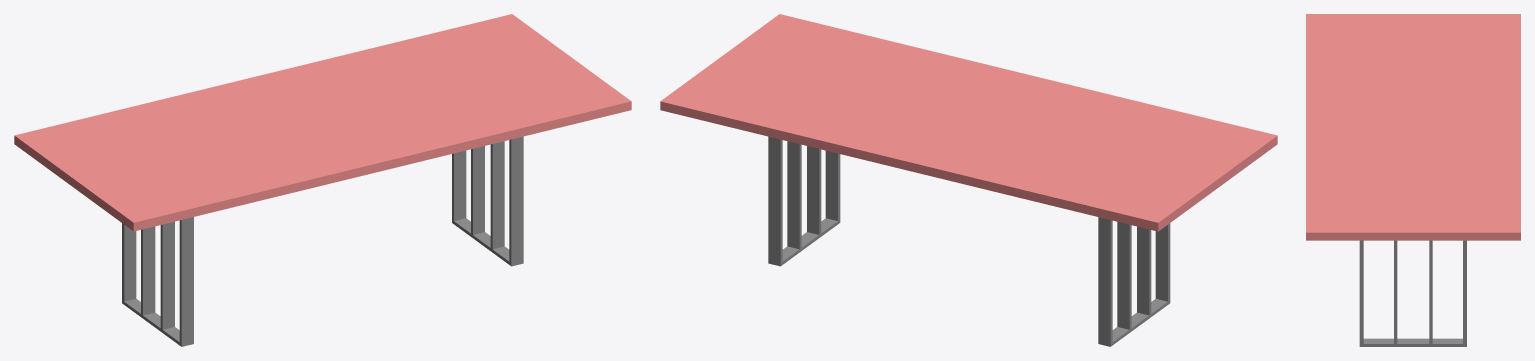
Rendered from tavolo_pranzo_001.fbx.
3 renders of one model, left to right at view 1: azimuth 30°, elevation 25°; view 2: azimuth 150°, elevation 25°; view 3: azimuth 270°, elevation 25°, orthographic. The views are drawn at different scales.
Parts seen in each view (by area): view 1: tavolo_pranzo_001:Symmetry_1; view 2: tavolo_pranzo_001:Symmetry_1; view 3: tavolo_pranzo_001:Symmetry_1.
Part boxes in pixels (x1,y1,x2,y2): tavolo_pranzo_001:Symmetry_1: (14, 14, 631, 346); tavolo_pranzo_001:Symmetry_1: (660, 14, 1277, 346); tavolo_pranzo_001:Symmetry_1: (1306, 14, 1520, 346).
Size of the model in its own units: 464 by 147 by 193.
